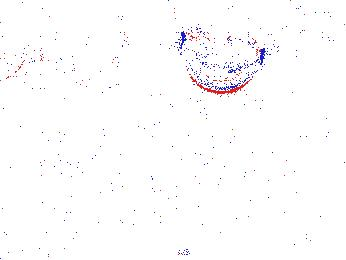moon jellyfish: (179, 28, 262, 94), (24, 1, 104, 64), (73, 1, 118, 92), (244, 9, 346, 47)
